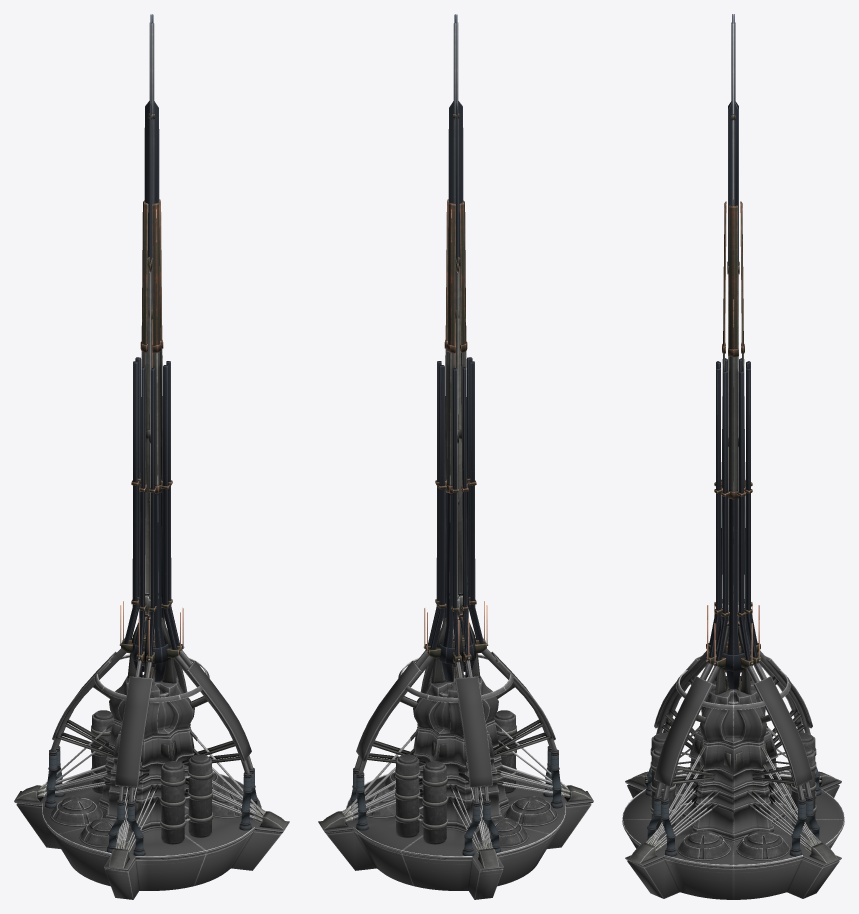
The model's file is melee_tower_model_asset.glb.
3 renders of one model, left to right at view 1: azimuth 30°, elevation 25°; view 2: azimuth 150°, elevation 25°; view 3: azimuth 270°, elevation 25°, orthographic.
Visible parts, largest first — view 1: Cube_002, Cube_002.001, Cube_002.003, Cube_002.002; view 2: Cube_002.003, Cube_002.002, Cube_002, Cube_002.001; view 3: Cube_002.001, Cube_002.002, Cube_002, Cube_002.003.
Part boxes in pixels (x1,y1,x2,y2): Cube_002: [56, 15, 206, 899]; Cube_002.001: [152, 14, 289, 885]; Cube_002.003: [14, 14, 151, 872]; Cube_002.002: [124, 14, 243, 790]; Cube_002.003: [401, 15, 551, 899]; Cube_002.002: [318, 14, 455, 885]; Cube_002: [456, 14, 593, 872]; Cube_002.001: [364, 14, 483, 790]; Cube_002.001: [622, 14, 733, 899]; Cube_002.002: [733, 14, 844, 899]; Cube_002: [622, 14, 733, 819]; Cube_002.003: [733, 14, 844, 819].
Bounding box in the file's own units: 2.35 × 9.88 × 2.35.
1 material, 1 textured.
